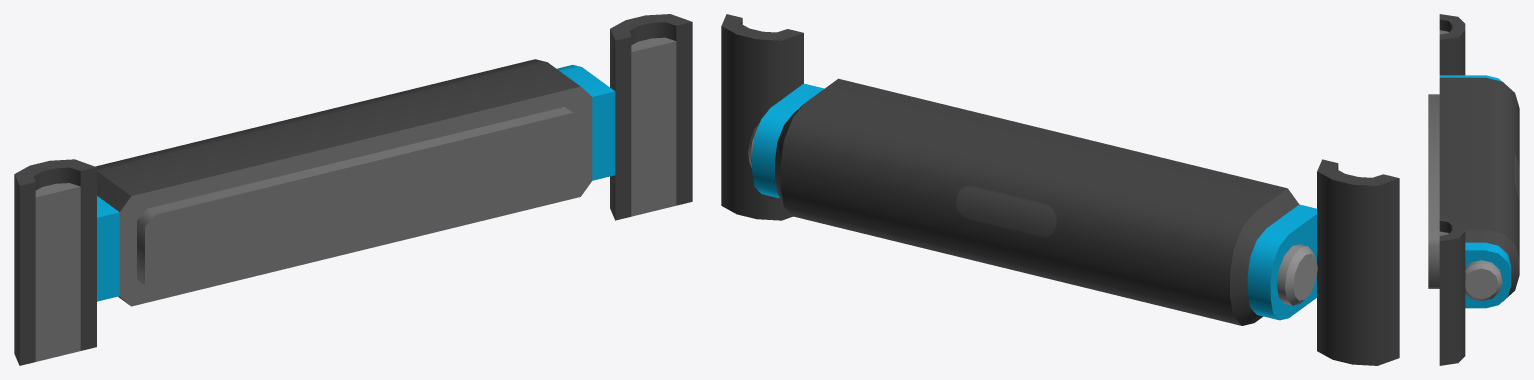
File: Conveyor_Belt_Cap_End.fbx
The picture shows the model from 3 angles, left to right: view 1: azimuth 30°, elevation 25°; view 2: azimuth 150°, elevation 25°; view 3: azimuth 270°, elevation 25°; orthographic projection. The views are drawn at different scales.
Visible parts, largest first — view 1: Conveyor_Belt_Cap_End; view 2: Conveyor_Belt_Cap_End; view 3: Conveyor_Belt_Cap_End.
Boxes of the visible parts, x1,y1,x2,y2 form: Conveyor_Belt_Cap_End: [14, 14, 692, 365]; Conveyor_Belt_Cap_End: [721, 14, 1399, 365]; Conveyor_Belt_Cap_End: [1428, 14, 1519, 365].
Size of the model in its own units: 128 by 32.6 by 21.65.
